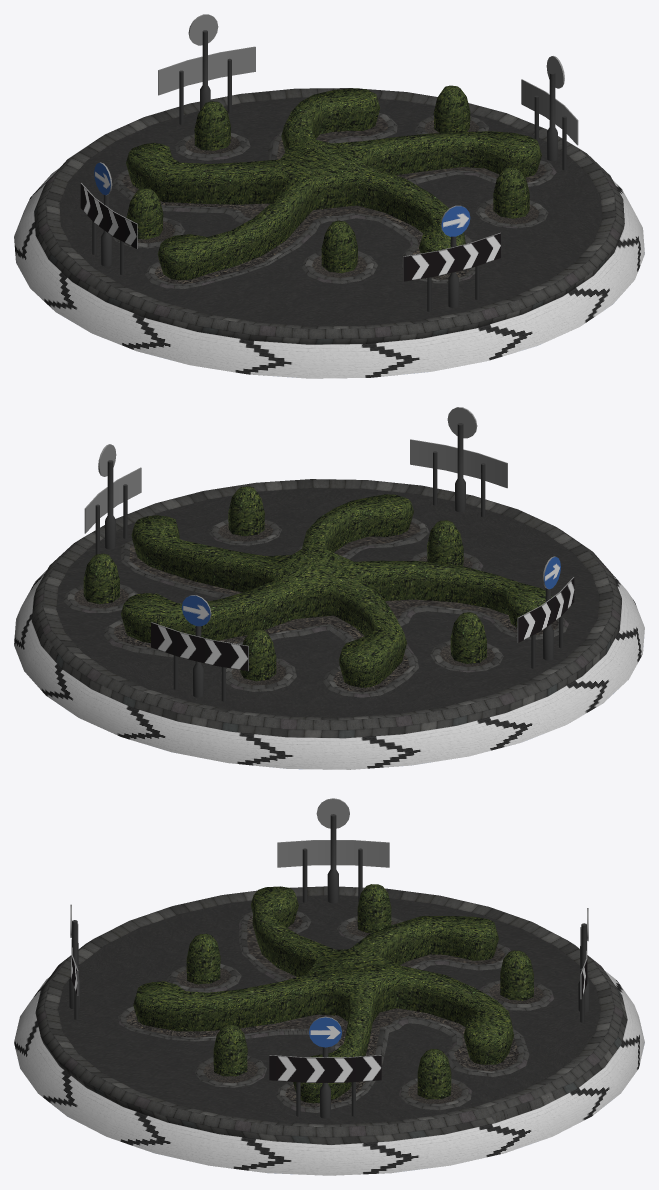
The model's file is roundabout.glb.
3 views of the same model, one above another, from view 1: azimuth 30°, elevation 25°; view 2: azimuth 150°, elevation 25°; view 3: azimuth 270°, elevation 25° (orthographic).
Parts seen in each view (by area): view 1: roundabout_0; view 2: roundabout_0; view 3: roundabout_0.
Part boxes in pixels (x1,y1,x2,y2): roundabout_0: [14, 14, 644, 378]; roundabout_0: [14, 407, 644, 769]; roundabout_0: [14, 798, 644, 1175].
Size of the model in its own units: 45.96 by 10.82 by 45.96.
Materials: 1 (1 with a texture image).
